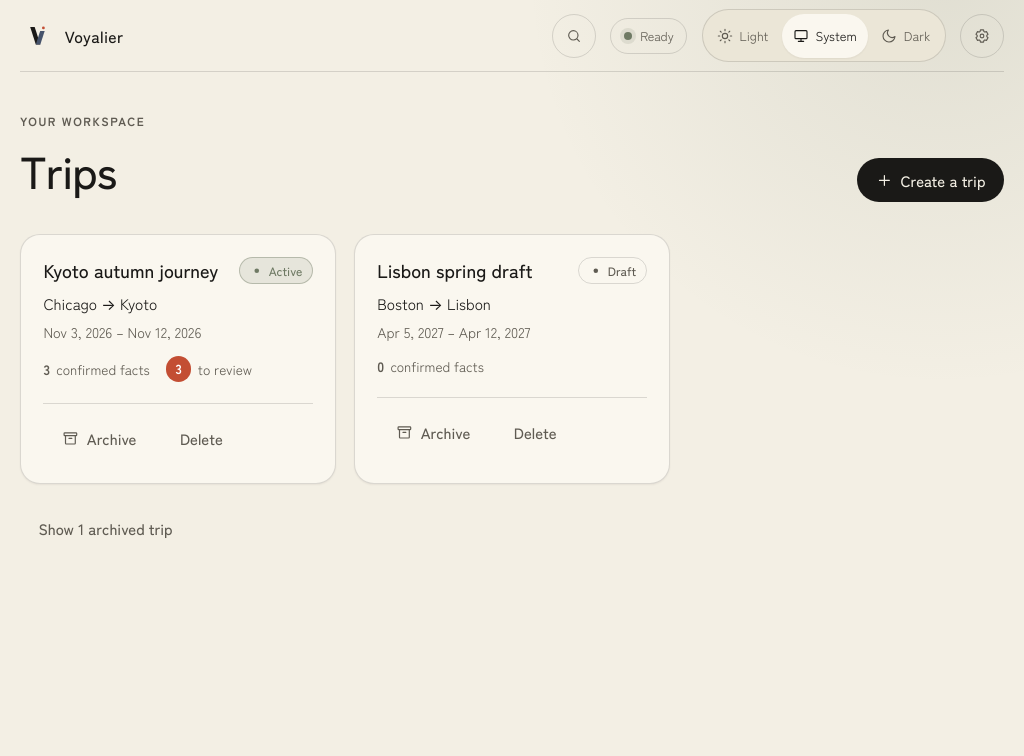
it: re-check sweep › names the hosts before the click, not after
Click the button with aria-label "Open Kyoto autumn journey" at (131, 270), box [43,257,218,283]
(page scrolled)
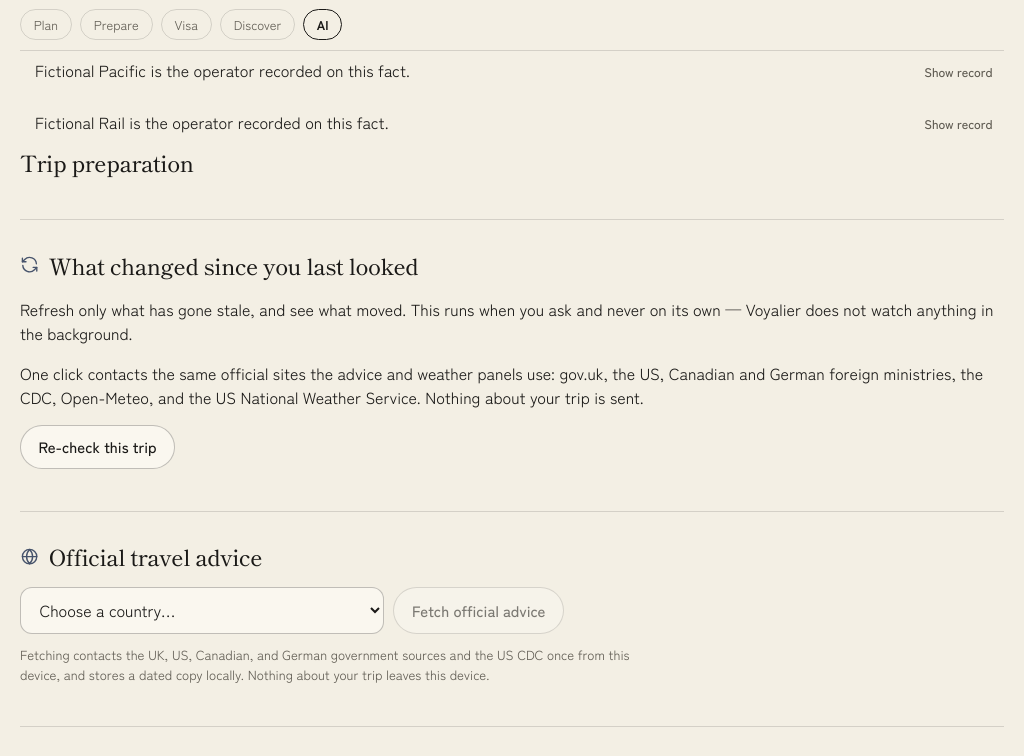
Expected: the text "Nothing about your trip is sent" is shown, [20,361,983,409]
